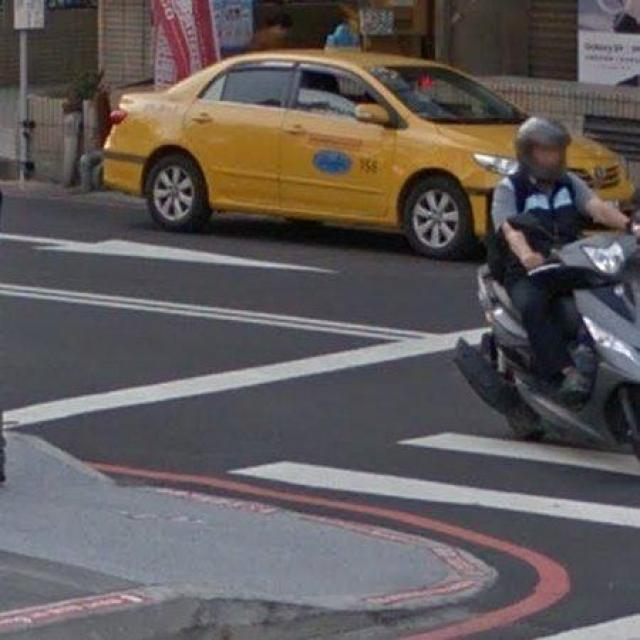Taxi: (102, 23, 526, 258)
